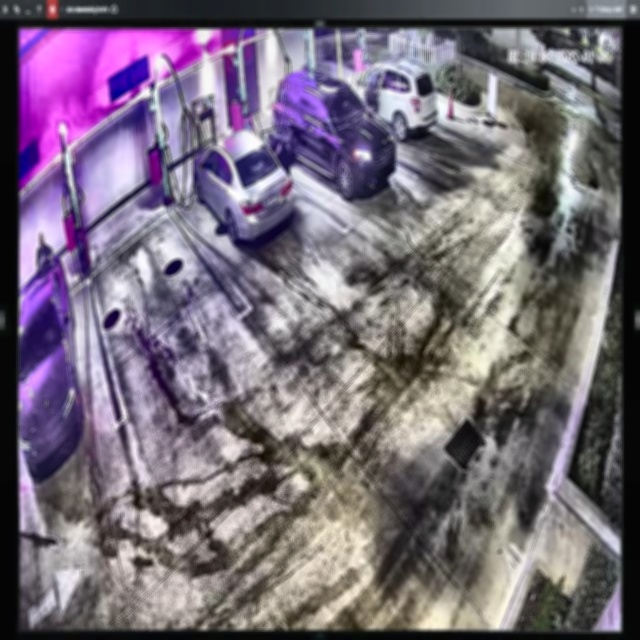Car: (270, 72, 395, 197), (191, 127, 296, 247), (356, 64, 440, 140)
